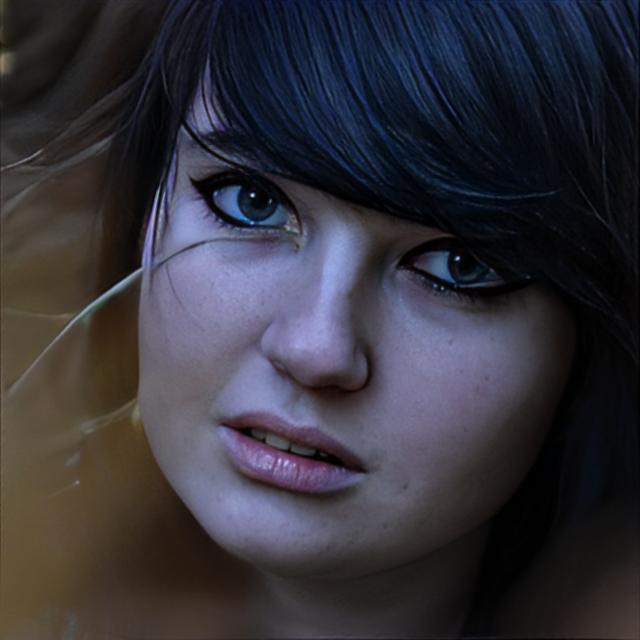surprise: (134, 31, 584, 588)
